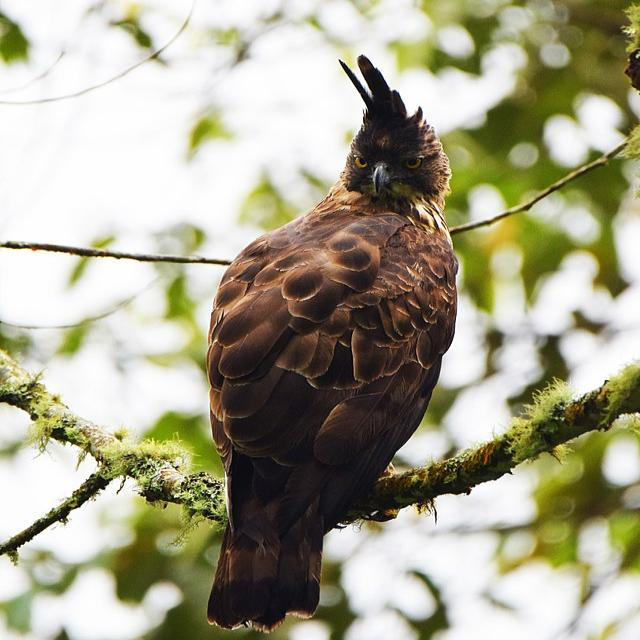Elang Jawa: (120, 47, 491, 640)
